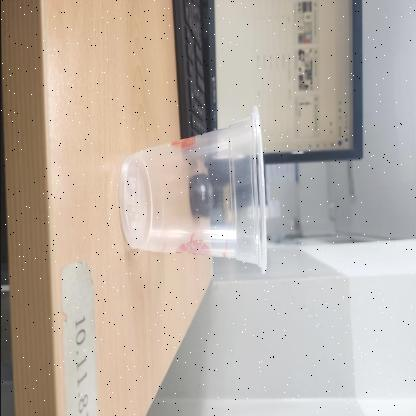Others: (118, 103, 266, 275)
